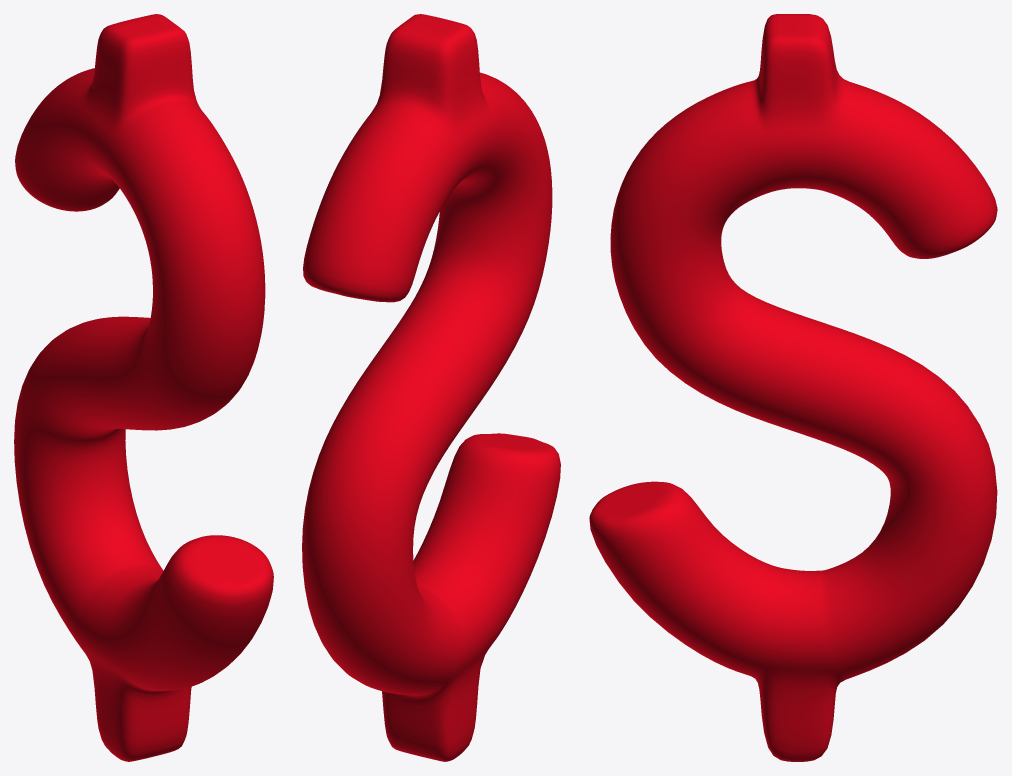
Rendered from dollar.fbx.
3 renders of one model, left to right at view 1: azimuth 30°, elevation 25°; view 2: azimuth 150°, elevation 25°; view 3: azimuth 270°, elevation 25°, orthographic.
Visible parts, largest first — view 1: BezierCurve; view 2: BezierCurve; view 3: BezierCurve.
Boxes of the visible parts, <box> form: BezierCurve: <box>14,14,273,761</box>; BezierCurve: <box>302,14,560,761</box>; BezierCurve: <box>589,14,997,761</box>.
Size of the model in its own units: 8.77 by 62.34 by 31.8.
